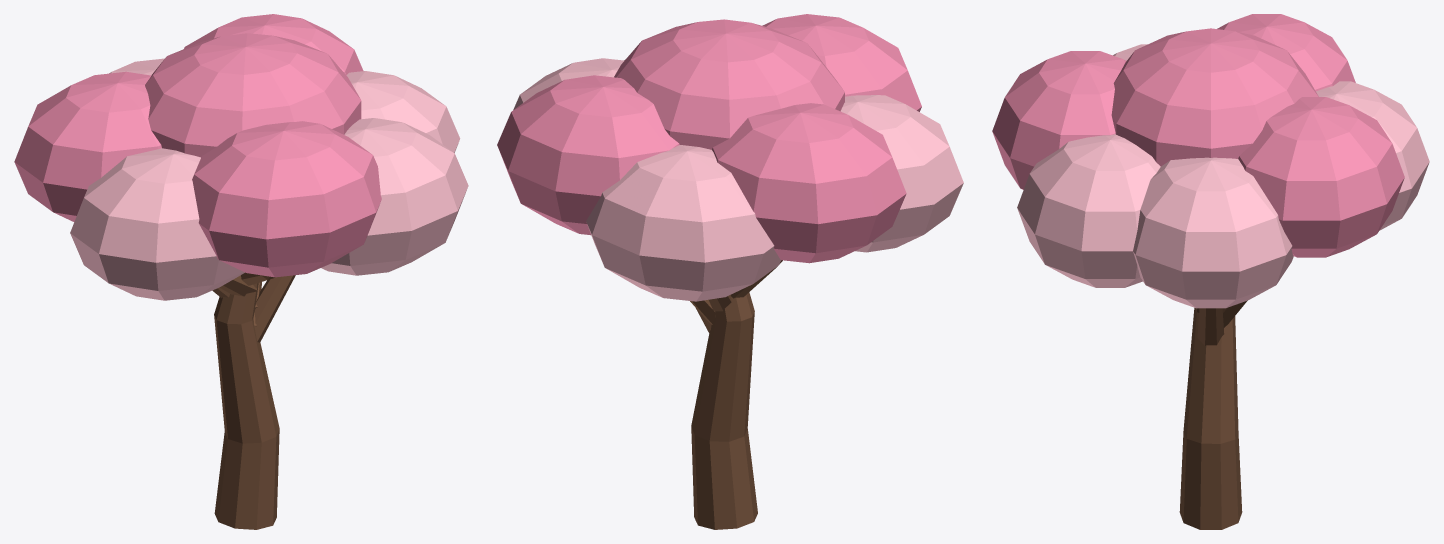
File: cherry_tree.glb
3 views of the same model, side by side, from view 1: azimuth 30°, elevation 25°; view 2: azimuth 150°, elevation 25°; view 3: azimuth 270°, elevation 25° (orthographic). The views are drawn at different scales.
Parts seen in each view (by area): view 1: Blossom_Cluster.005, Crown, Blossom_Cluster.004, Blossom_Cluster.003, Blossom_Cluster.006, Trunk, Blossom_Cluster, Blossom_Cluster.001, Branch; view 2: Blossom_Cluster.003, Blossom_Cluster.002, Crown, Blossom_Cluster.001, Trunk, Blossom_Cluster.004, Blossom_Cluster.005, Blossom_Cluster; view 3: Crown, Blossom_Cluster, Blossom_Cluster.001, Blossom_Cluster.006, Blossom_Cluster.005, Trunk, Blossom_Cluster.002, Blossom_Cluster.003, Branch.
Boxes of the visible parts, x1,y1,x2,y2 form: Blossom_Cluster.005: (192, 121, 381, 277); Crown: (145, 33, 361, 157); Blossom_Cluster.004: (70, 148, 244, 300); Blossom_Cluster.003: (14, 71, 161, 221); Blossom_Cluster.006: (321, 118, 468, 275); Trunk: (214, 283, 279, 529); Blossom_Cluster: (346, 71, 460, 152); Blossom_Cluster.001: (184, 14, 363, 75); Branch: (254, 275, 295, 342); Blossom_Cluster.003: (712, 103, 906, 263); Blossom_Cluster.002: (586, 145, 780, 301); Crown: (614, 19, 844, 149); Blossom_Cluster.001: (497, 75, 679, 235); Trunk: (691, 292, 757, 529); Blossom_Cluster.004: (840, 95, 963, 252); Blossom_Cluster.005: (762, 14, 921, 111); Blossom_Cluster: (513, 58, 623, 109); Crown: (1111, 28, 1318, 166); Blossom_Cluster: (1133, 157, 1293, 308); Blossom_Cluster.001: (1238, 97, 1404, 257); Blossom_Cluster.006: (1017, 134, 1160, 287); Blossom_Cluster.005: (992, 51, 1126, 189); Trunk: (1179, 308, 1242, 529); Blossom_Cluster.002: (1316, 81, 1429, 230); Blossom_Cluster.003: (1217, 14, 1355, 91); Branch: (1197, 308, 1224, 345).
Bounding box in the file's own units: 2.41 × 2.8 × 2.35.
Materials: 1 (1 with a texture image).
